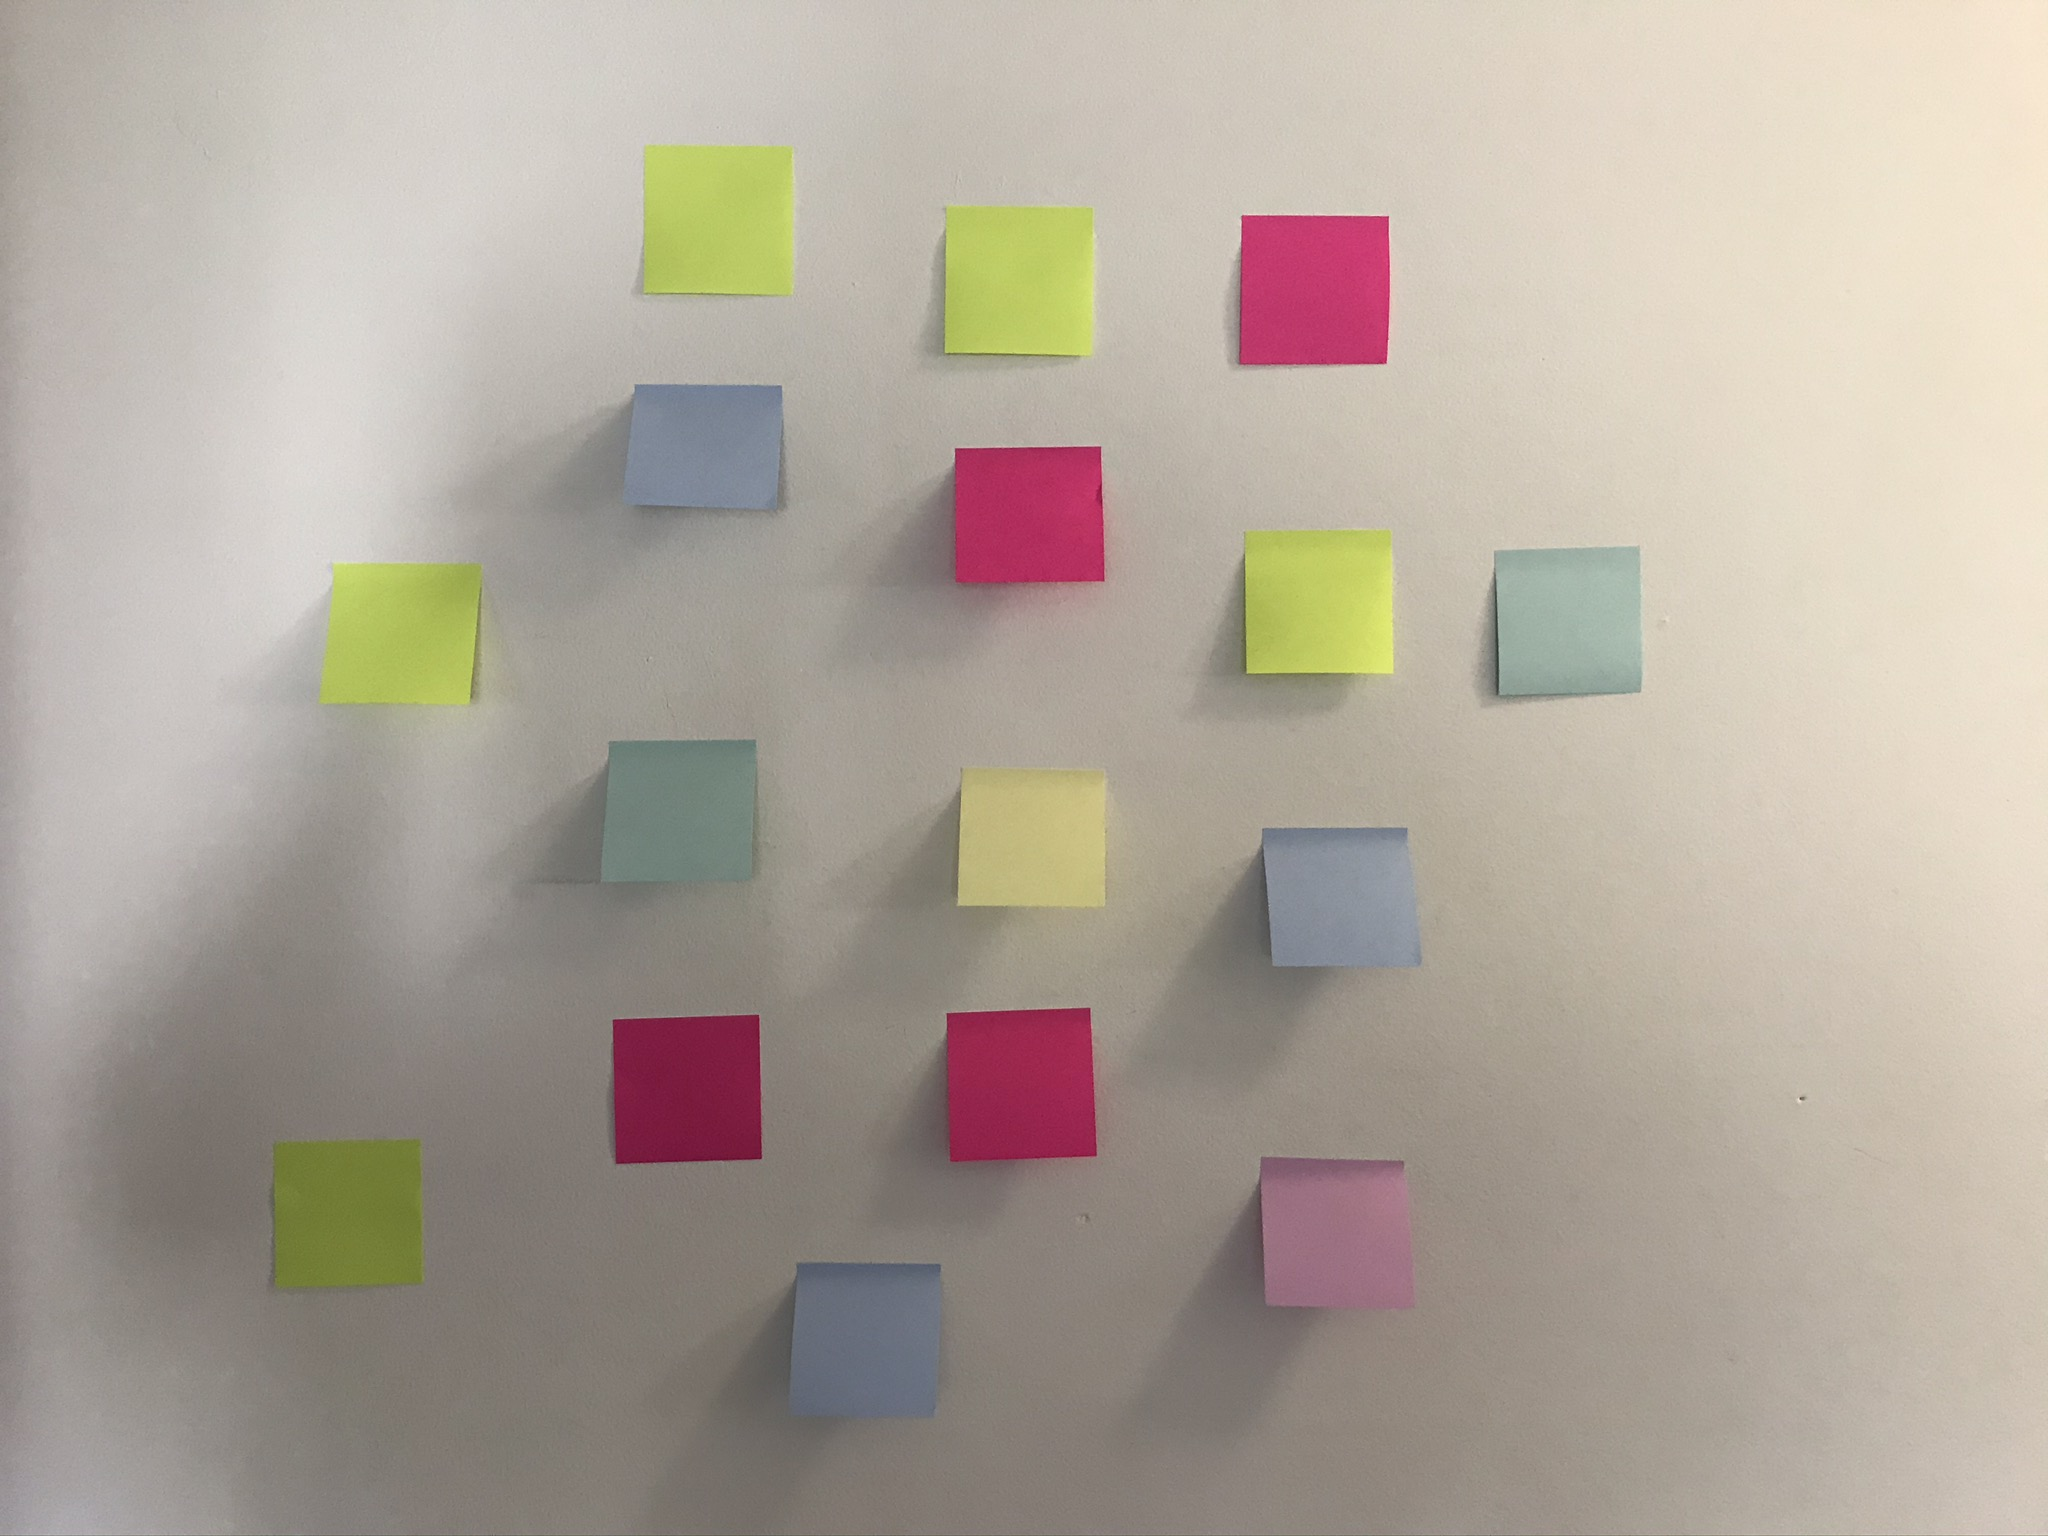sticky: (1259, 1157, 1421, 1310), (940, 202, 1093, 361), (942, 1008, 1101, 1162), (318, 558, 482, 707), (1234, 213, 1393, 365), (640, 142, 793, 298), (269, 1134, 426, 1286), (1492, 545, 1646, 697), (789, 1262, 942, 1413), (610, 1015, 764, 1165), (1261, 826, 1421, 970), (1242, 528, 1393, 678), (953, 765, 1109, 908), (953, 445, 1106, 589), (601, 737, 755, 879), (622, 381, 784, 515)
